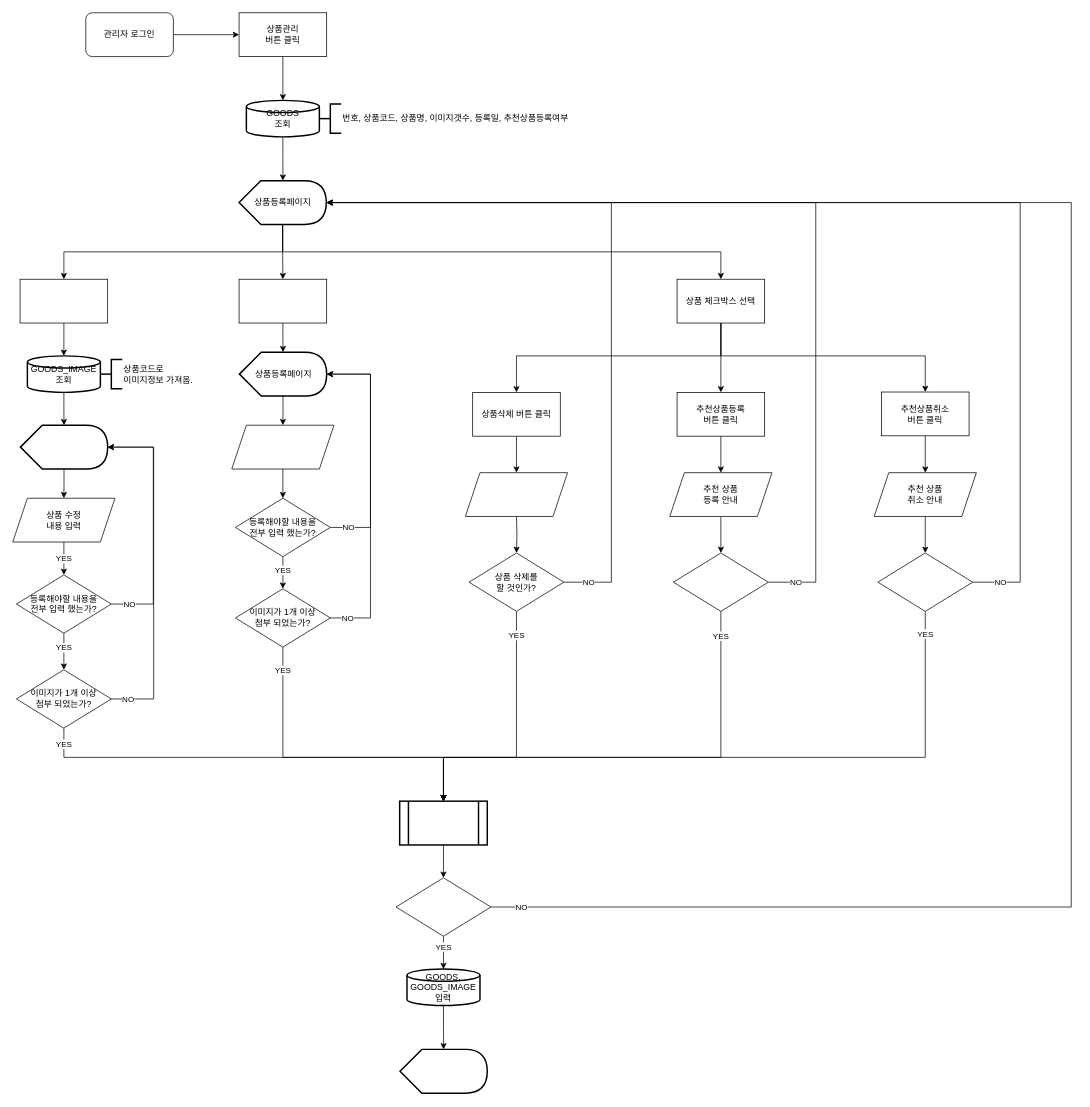
Image size: 1090x1107. Some labels were removed from this diagram. The shapes that lost their labels are listed below. From the top down, each one's box as (x1, y1, x2, y2) in pixels, then its label:
(19, 278, 108, 323): 상품 이름 클릭
(238, 278, 327, 323): 상품 등록 버튼 클릭
(19, 424, 108, 469): 상품수정페이지
(231, 424, 334, 469): 등록할 상품 정보 입력
(465, 472, 568, 516): 상품 삭제 확인 안내
(673, 552, 768, 611): 추천 상품으로 등록할 것인가?
(877, 552, 973, 611): 추천 상품을 취소할 것인가?
(399, 800, 488, 845): 본인인증fn
(395, 877, 491, 936): myself=true
(399, 1048, 488, 1094): 상품목록조회
